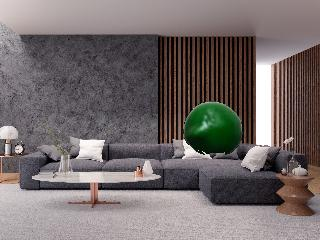lime: (184, 102, 242, 155)
